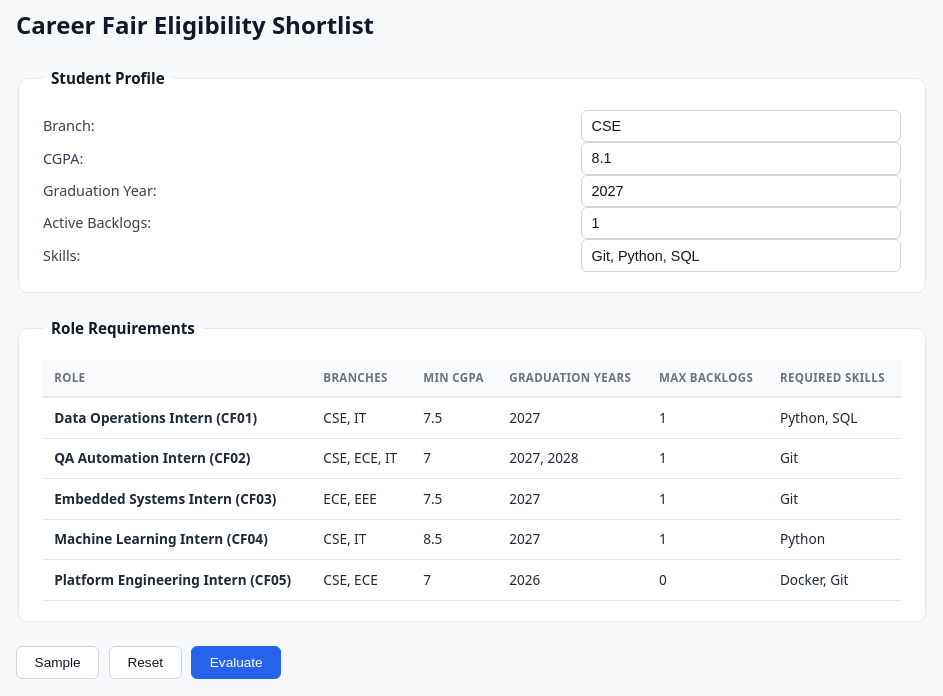
App integration › sample loads the default profile without auto-evaluating
This screenshot has width=943, height=696.
Step 1. Replace the text in the field labelled "Branch:" with "ECE" → (741, 126), box [581,110,901,142]
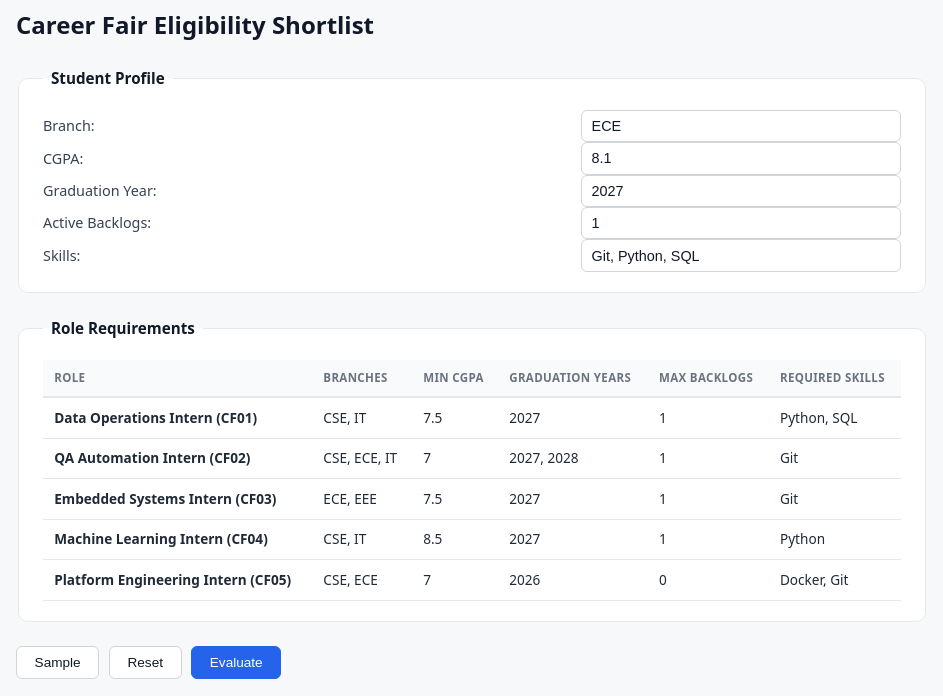
Step 2. Click the button "Sample" → (58, 662), box [16,646,99,679]
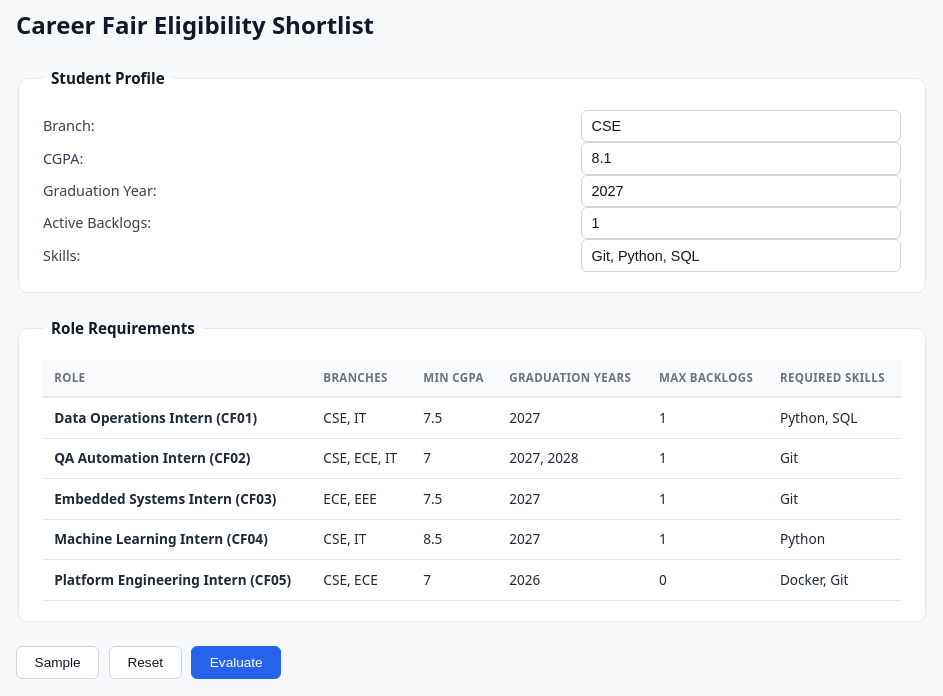
Result: the field labelled "Branch:" holds "CSE" at [581,110,901,142]
